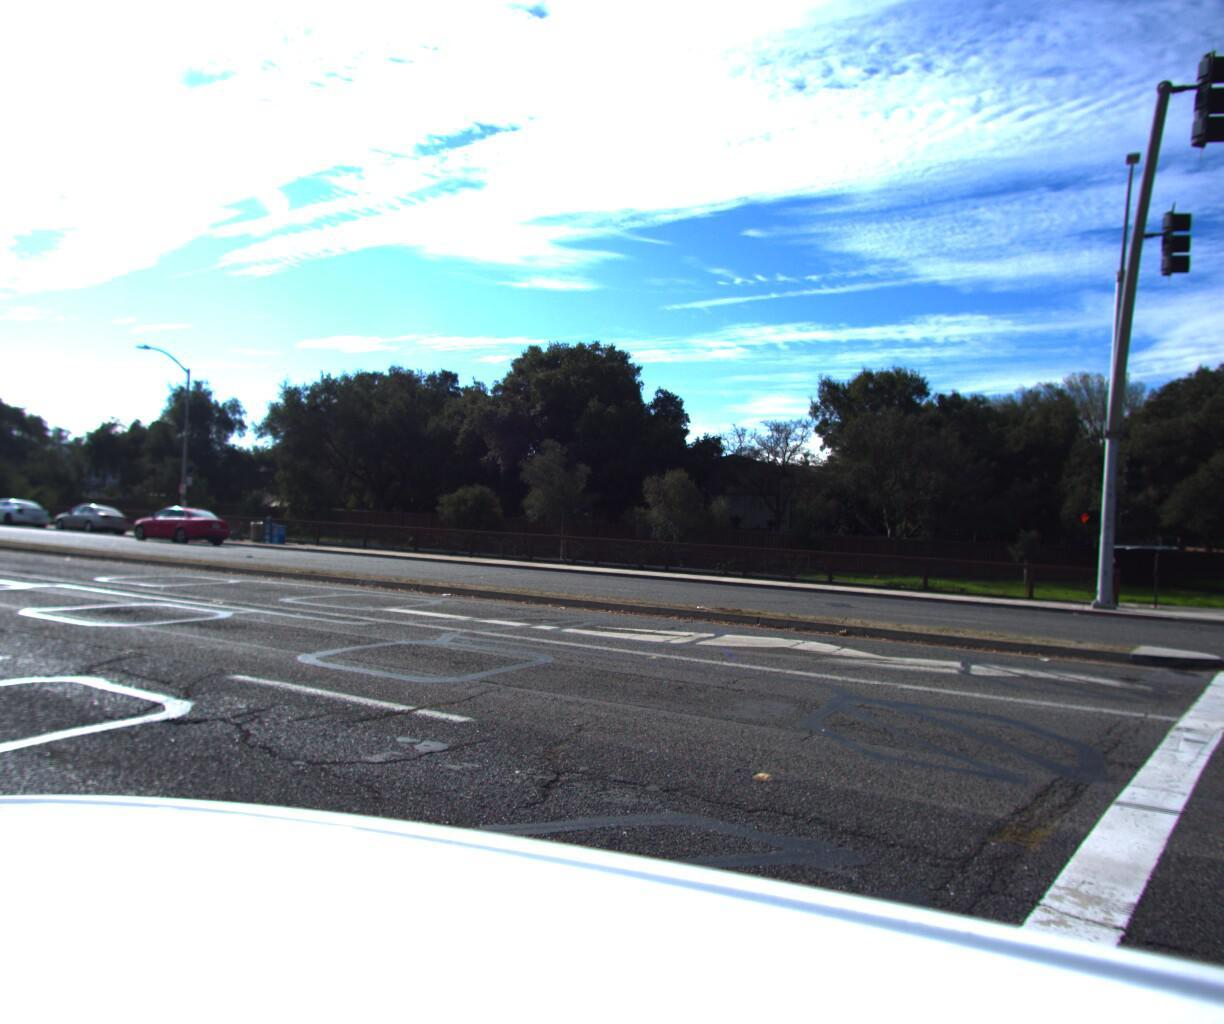car: (123, 498, 239, 542), (51, 497, 137, 533), (1103, 536, 1185, 569)
